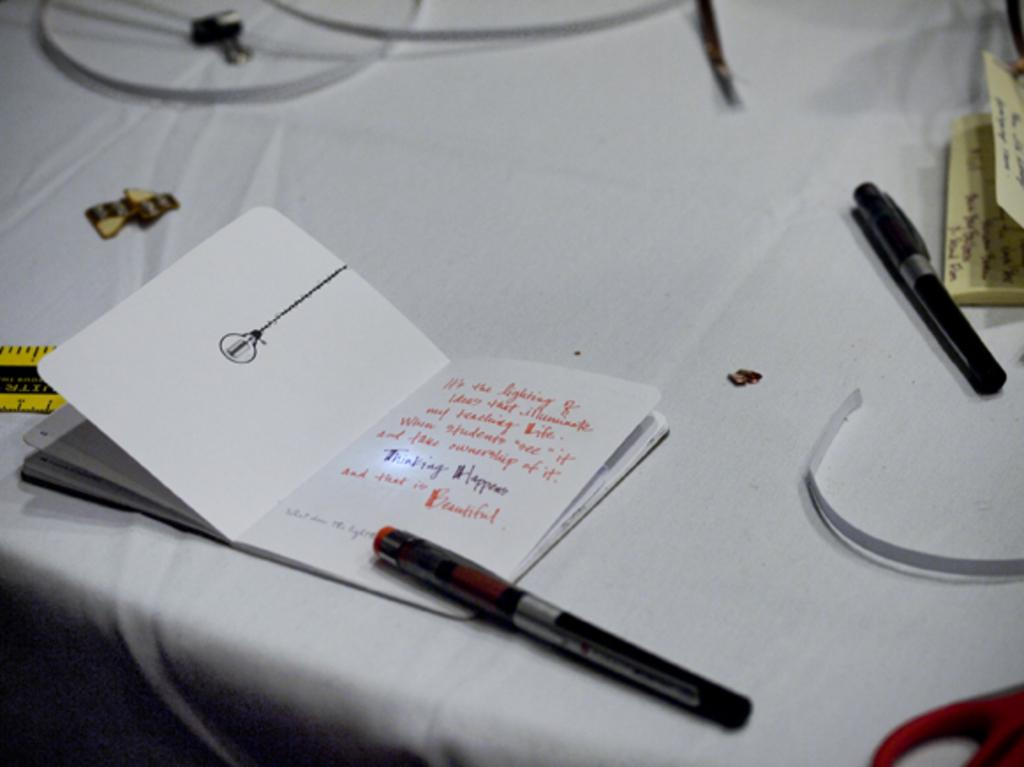pen: (374, 517, 760, 732), (842, 175, 1008, 400)
